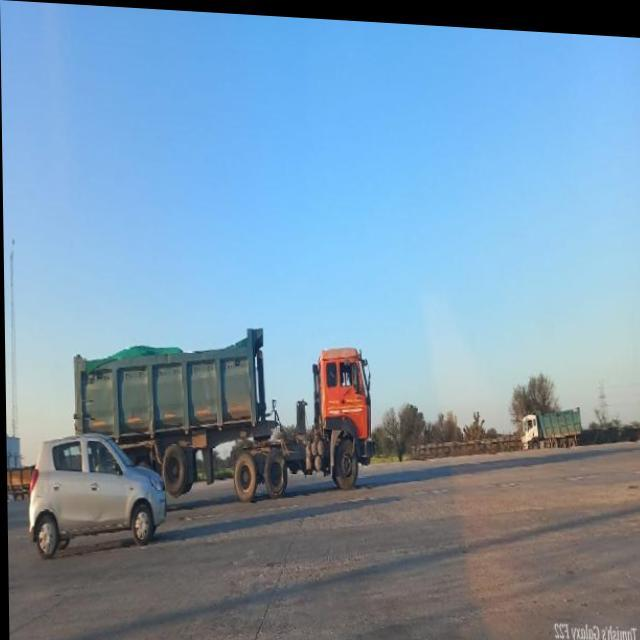covered: (72, 318, 370, 461)
uncovered: (518, 391, 588, 452)
